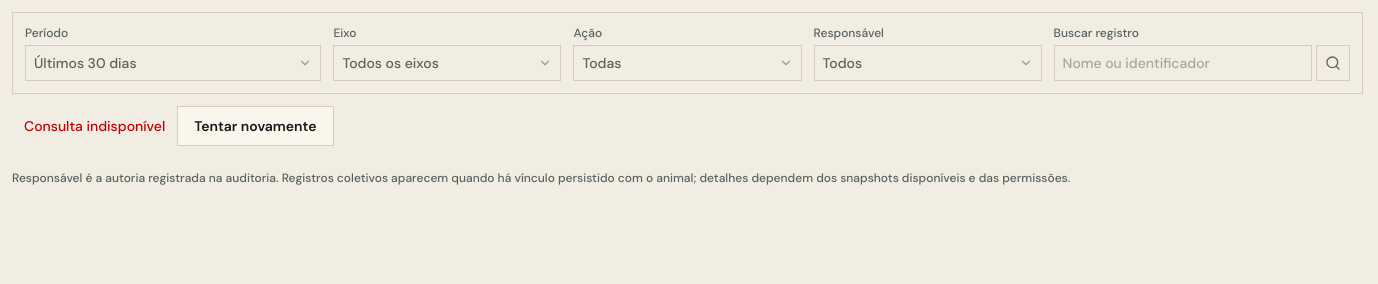
Test: AuditoriaAnimal › erro permite tentar novamente, sem afirmar ausência de registros
Expected: the message "Consulta indisponível" is shown, [24,116,165,136]
Step 1. Click the button "Tentar novamente" → (255, 126), box [177,106,334,146]
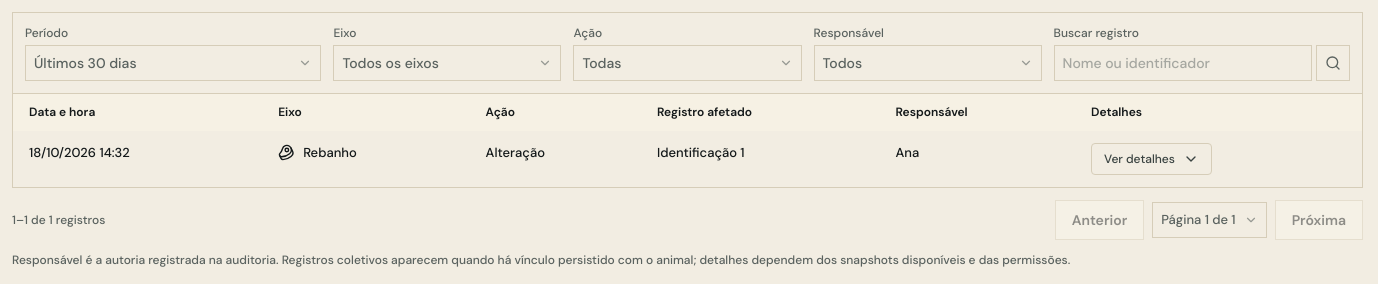
Result: the text "Identificação 1" is shown at [641,131,879,187]
